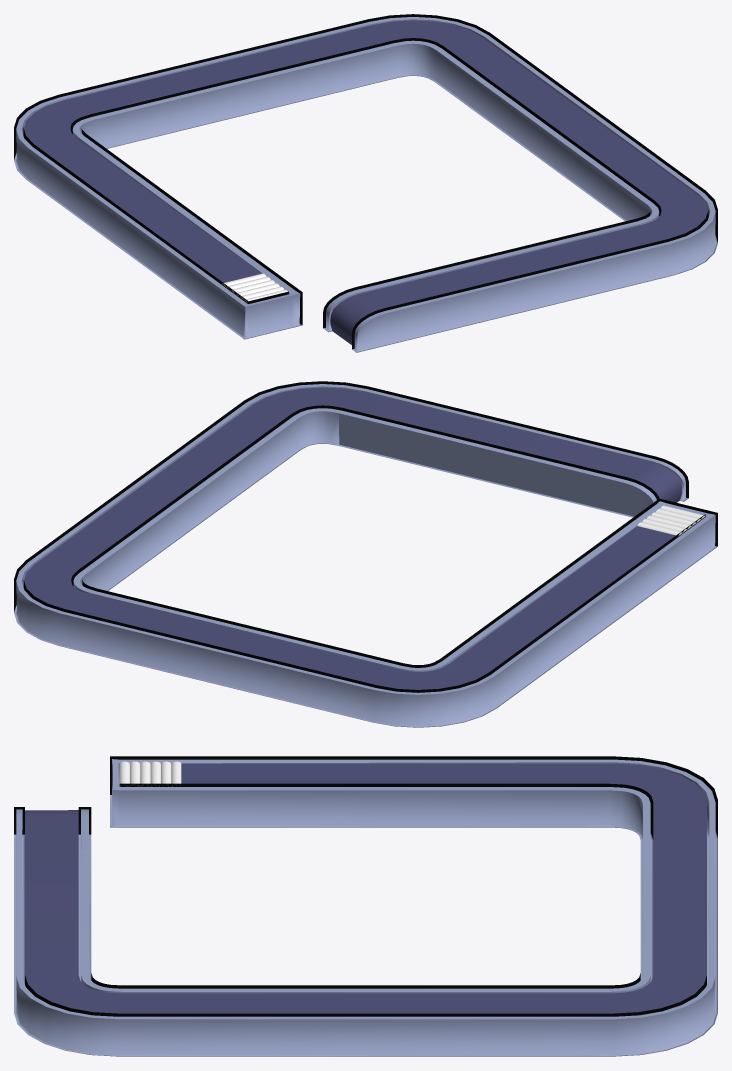
File: threadmill.glb
3 renders of one model, top to bottom at view 1: azimuth 30°, elevation 25°; view 2: azimuth 150°, elevation 25°; view 3: azimuth 270°, elevation 25°, orthographic. The views are drawn at different scales.
Parts seen in each view (by area): view 1: ThreadmillEdges, ThreadmillLane, ThreadmillEnd; view 2: ThreadmillEdges, ThreadmillLane, ThreadmillEnd; view 3: ThreadmillEdges, ThreadmillLane, ThreadmillEnd.
Boxes of the visible parts, x1,y1,x2,y2 form: ThreadmillEdges: (14, 14, 717, 352); ThreadmillLane: (24, 20, 707, 344); ThreadmillEnd: (222, 273, 287, 302); ThreadmillEdges: (14, 381, 717, 727); ThreadmillLane: (24, 387, 682, 689); ThreadmillEnd: (637, 505, 705, 535); ThreadmillEdges: (14, 756, 717, 1056); ThreadmillLane: (25, 763, 706, 1013); ThreadmillEnd: (119, 761, 181, 786).
Size of the model in its own units: 3.63 by 0.2485 by 4.13.
